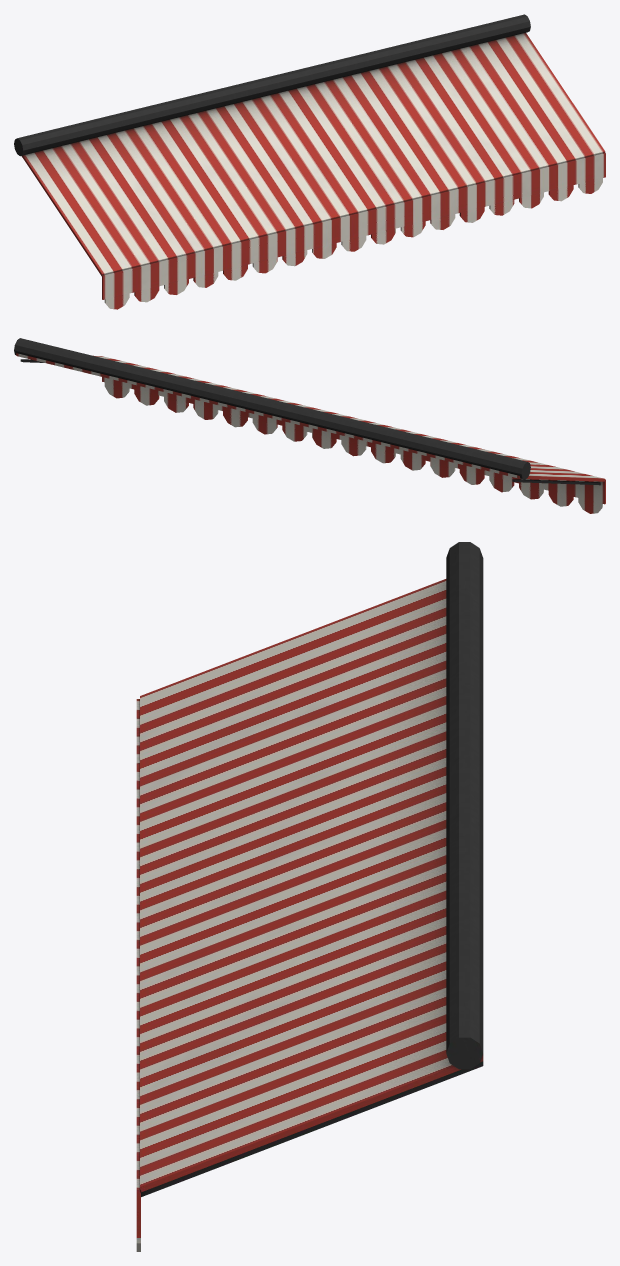
Rendered from awning_44_red.glb.
The picture shows the model from 3 angles, top to bottom: view 1: azimuth 30°, elevation 25°; view 2: azimuth 150°, elevation 25°; view 3: azimuth 270°, elevation 25°; orthographic projection. The views are drawn at different scales.
Parts seen in each view (by area): view 1: awning_44_red; view 2: awning_44_red; view 3: awning_44_red.
Part boxes in pixels (bbox=[...]): awning_44_red: bbox=[14, 14, 605, 309]; awning_44_red: bbox=[14, 338, 605, 513]; awning_44_red: bbox=[136, 542, 483, 1251].
Size of the model in its own units: 4.44 by 0.9566 by 1.31.
Materials: 1 (1 with a texture image).
